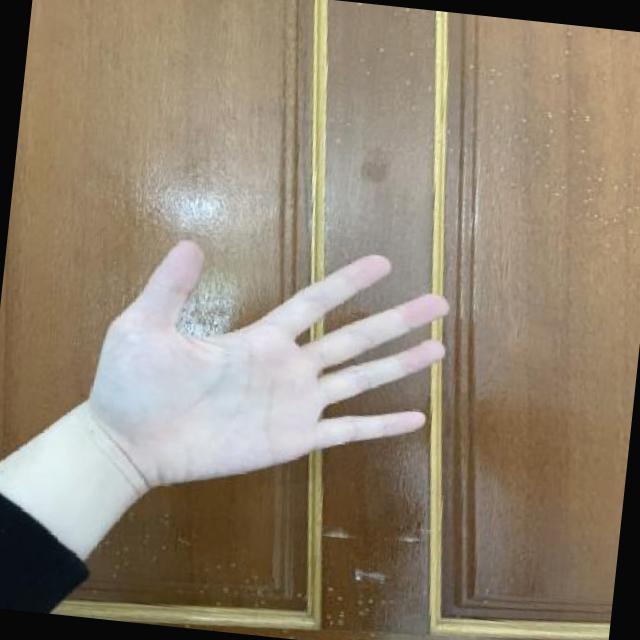hand: (61, 203, 463, 536)
